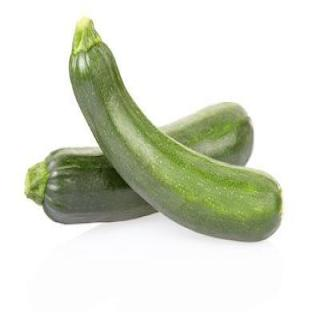Zucchini: (70, 18, 282, 241), (26, 148, 155, 223)
